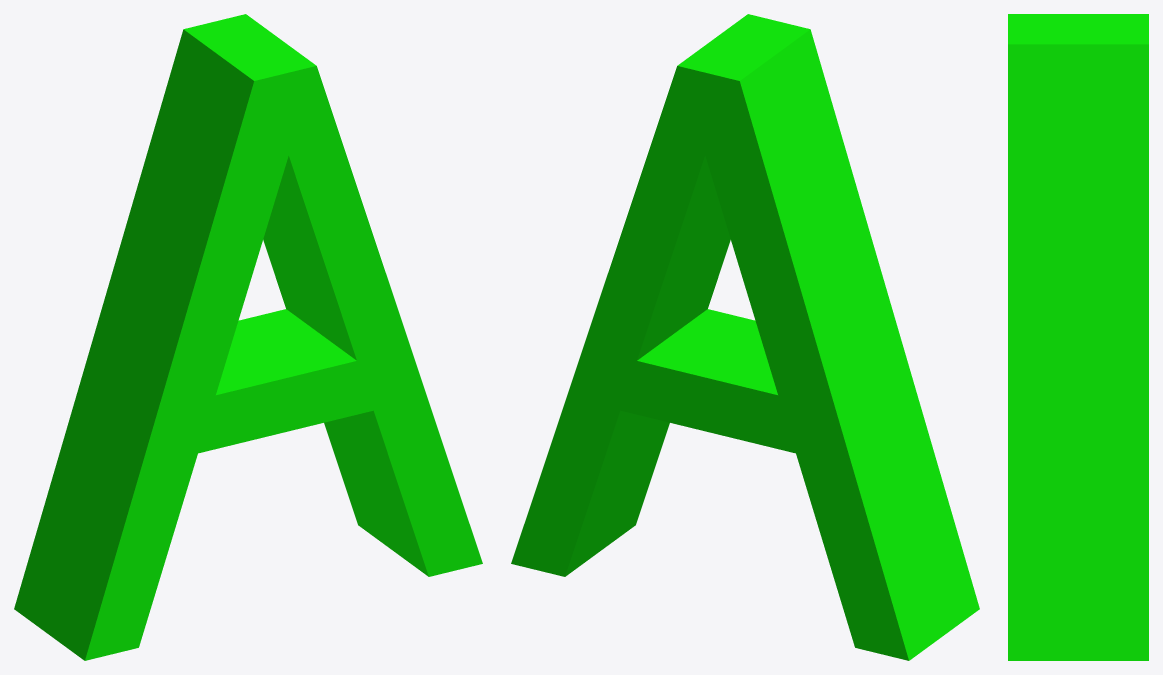
Rendered from AButton.obj.
3 views of the same model, side by side, from view 1: azimuth 30°, elevation 25°; view 2: azimuth 150°, elevation 25°; view 3: azimuth 270°, elevation 25° (orthographic).
Parts seen in each view (by area): view 1: 立方体.002; view 2: 立方体.002; view 3: 立方体.002.
Boxes of the visible parts, x1,y1,x2,y2 form: 立方体.002: (14, 14, 482, 660); 立方体.002: (511, 14, 979, 660); 立方体.002: (1008, 14, 1148, 660).
Bounding box in the file's own units: 0.9283 × 1.2 × 0.286.
1 material, 1 textured.
